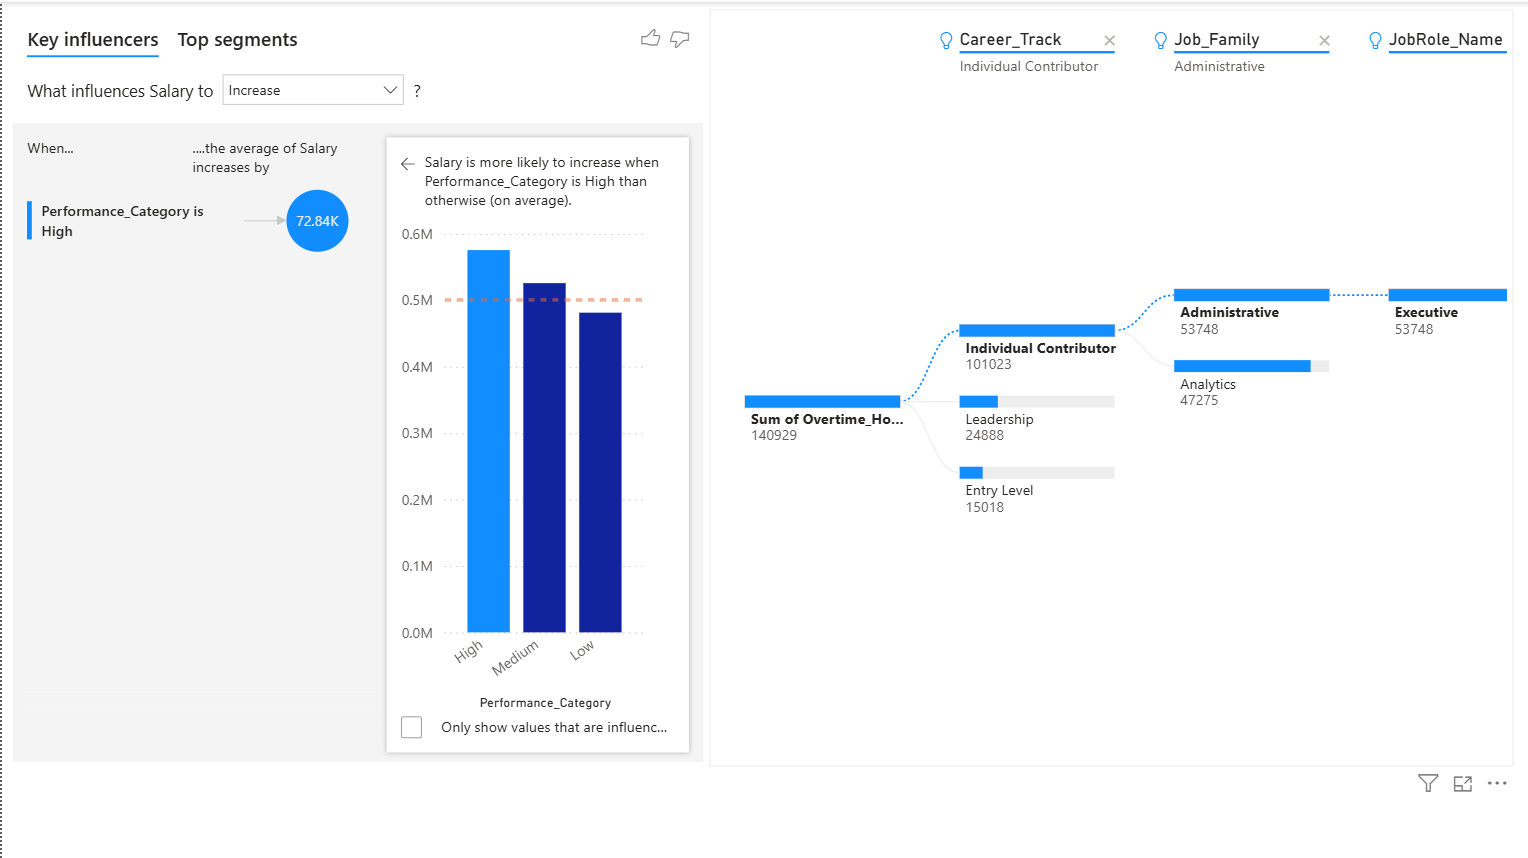

This screenshot's page, from the dashboard's own definition file:
{"tool":"powerbi","page":{"name":"key influencers","canvas":[1280,720],"ordinal":4},"visuals":[{"type":"keyDriversVisual","fields":{"Target":["HR_Fact.Salary"],"ExplainBy":["HR_Fact.Performance_Category"]},"box":[4.5,6.1,589,636],"z":0},{"type":"decompositionTreeVisual","fields":{"Analyze":["Sum(HR_Fact.Overtime_Hours)"],"ExplainBy":["Dim_JobRole.Career_Track","Dim_JobRole.Job_Family","Dim_JobRole.JobRole_Name"]},"box":[593.6,6.1,673.8,636],"z":1000}]}

Visuals, with their boxes on the page's 1280x720 design canvas (x1, y1, x2, y2). These are canvas units, not pixel positions in the 1528x858 screenshot, which may show the page scaled, cropped or inside an application window:
keyDriversVisual - HR_Fact.Salary x HR_Fact.Performance_Category: l=4, t=6, r=594, b=642
decompositionTreeVisual - Sum(HR_Fact.Overtime_Hours) x Dim_JobRole.Career_Track: l=594, t=6, r=1267, b=642
